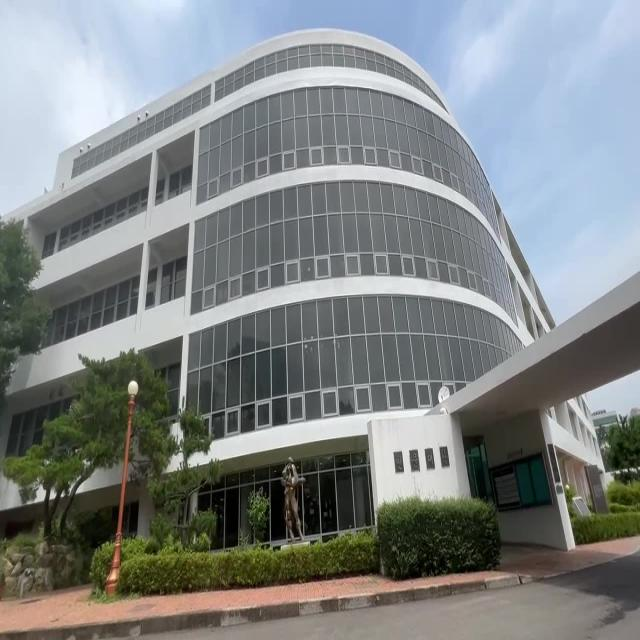building: (193, 26, 472, 440)
